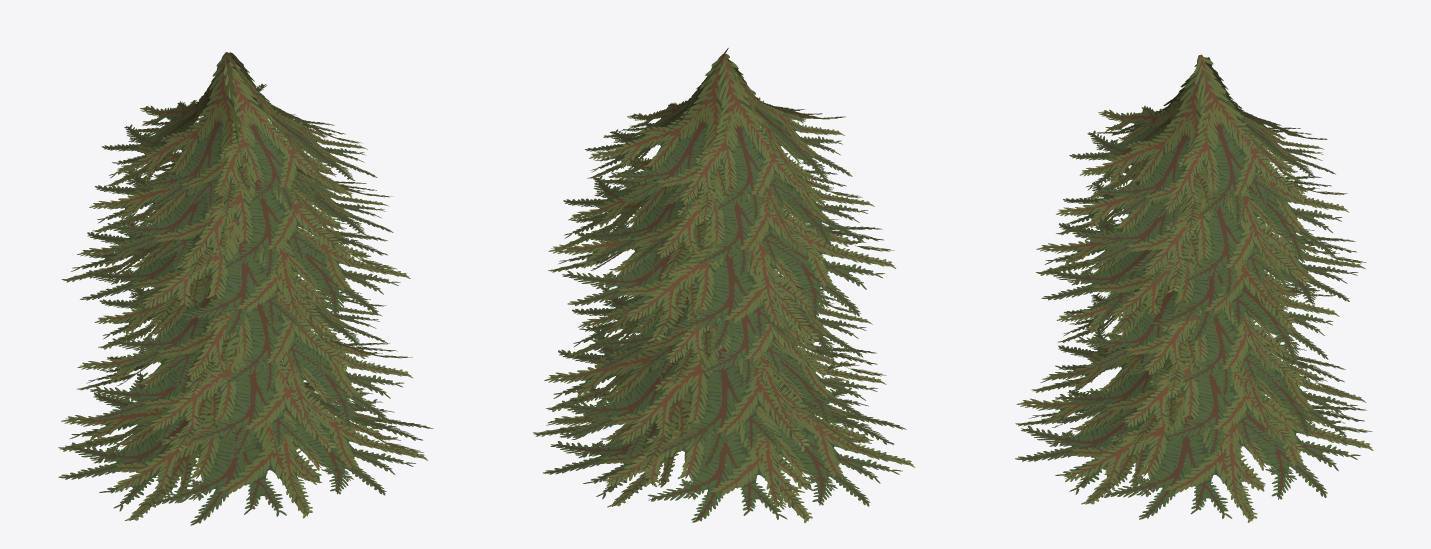
File: boom.fbx
The picture shows the model from 3 angles, left to right: view 1: azimuth 30°, elevation 25°; view 2: azimuth 150°, elevation 25°; view 3: azimuth 270°, elevation 25°; orthographic projection. The views are drawn at different scales.
Parts seen in each view (by area): view 1: polySurface15; view 2: polySurface15; view 3: polySurface15.
Boxes of the visible parts, x1,y1,x2,y2 form: polySurface15: [58, 52, 433, 525]; polySurface15: [533, 48, 914, 523]; polySurface15: [1015, 54, 1373, 522].
Size of the model in its own units: 2.57 by 2.88 by 2.88.
1 material, 1 textured.
